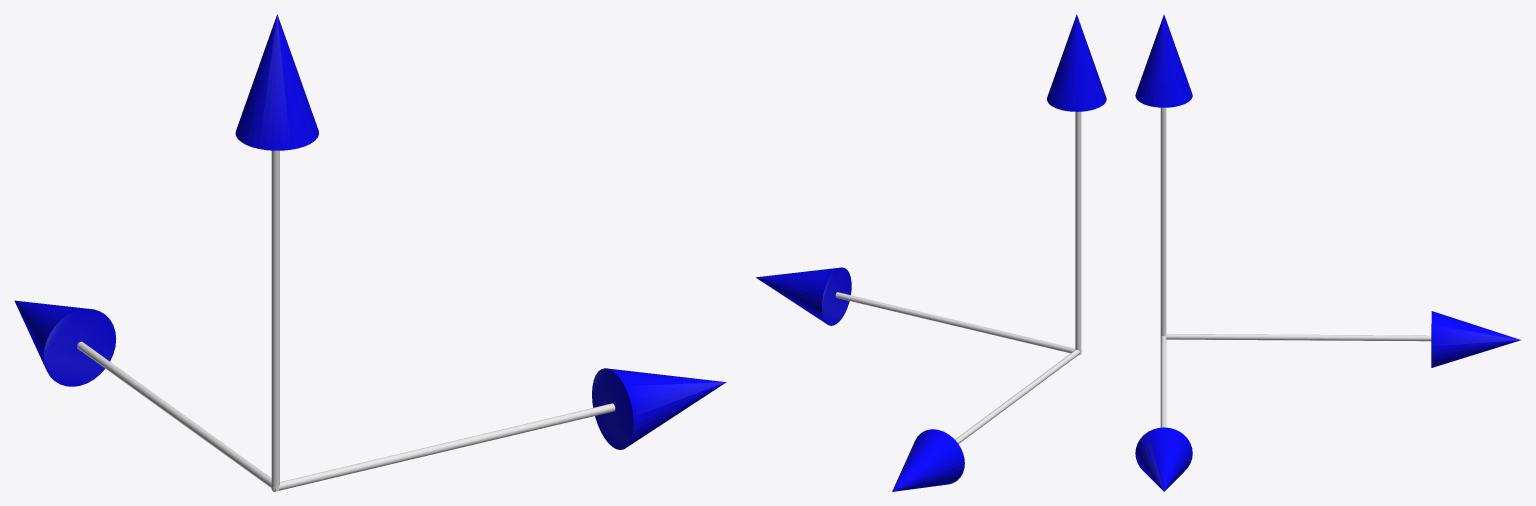
Rendered from axes.fbx.
3 views of the same model, side by side, from view 1: azimuth 30°, elevation 25°; view 2: azimuth 150°, elevation 25°; view 3: azimuth 270°, elevation 25° (orthographic). The views are drawn at different scales.
Visible parts, largest first — view 1: Cone, Cone.001, Cone.002, Cylinder.001, Cylinder, Cylinder.002; view 2: Cone, Cone.001, Cone.002, Cylinder, Cylinder.001, Cylinder.002; view 3: Cone, Cone.002, Cone.001, Cylinder.002, Cylinder, Cylinder.001.
Boxes of the visible parts, x1=… form: Cone: x1=235, y1=14, x2=318, y2=150; Cone.001: x1=592, y1=368, x2=726, y2=449; Cone.002: x1=14, y1=300, x2=115, y2=386; Cylinder.001: x1=273, y1=403, x2=615, y2=491; Cylinder: x1=271, y1=150, x2=279, y2=491; Cylinder.002: x1=77, y1=341, x2=273, y2=488; Cone: x1=1047, y1=14, x2=1106, y2=111; Cone.001: x1=756, y1=267, x2=851, y2=325; Cone.002: x1=892, y1=429, x2=964, y2=491; Cylinder: x1=1075, y1=111, x2=1081, y2=354; Cylinder.001: x1=835, y1=292, x2=1080, y2=355; Cylinder.002: x1=955, y1=349, x2=1081, y2=443; Cone: x1=1135, y1=14, x2=1192, y2=107; Cone.002: x1=1431, y1=311, x2=1521, y2=367; Cone.001: x1=1135, y1=427, x2=1192, y2=491; Cylinder.002: x1=1165, y1=334, x2=1431, y2=341; Cylinder: x1=1160, y1=107, x2=1166, y2=336; Cylinder.001: x1=1160, y1=336, x2=1166, y2=427.
Size of the model in its own units: 135 by 136 by 135.
